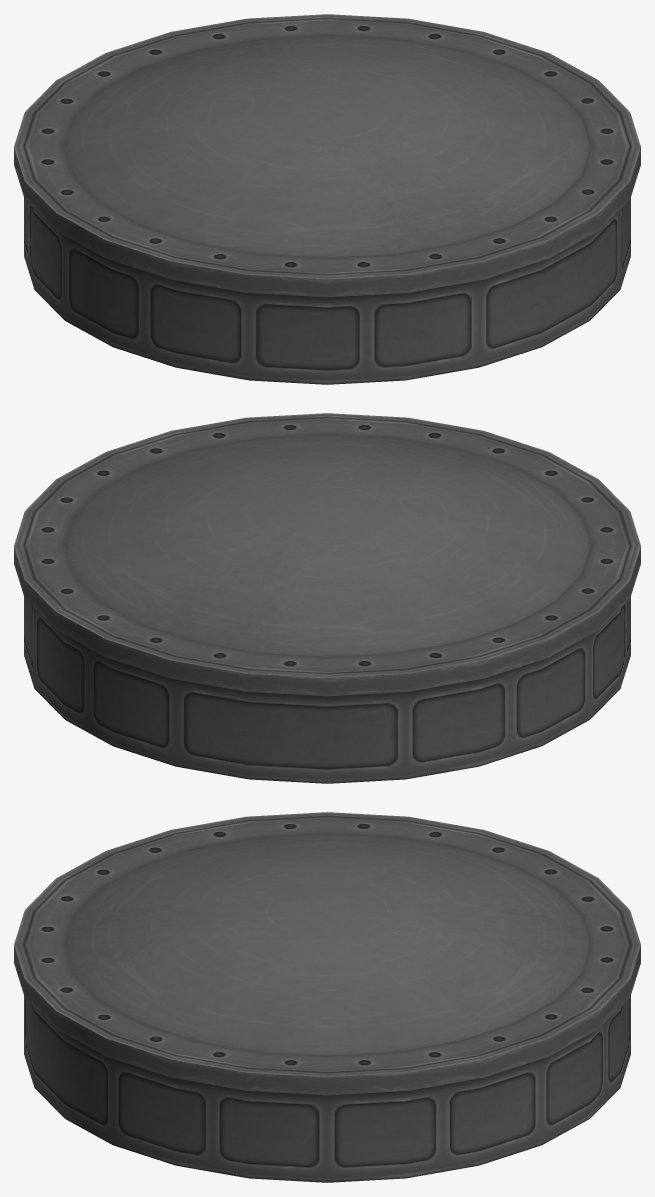
File: circinus_staging_plate_s1p5_1.obj
The picture shows the model from 3 angles, top to bottom: view 1: azimuth 30°, elevation 25°; view 2: azimuth 150°, elevation 25°; view 3: azimuth 270°, elevation 25°; orthographic projection.
Parts seen in each view (by area): view 1: circinus_staging_plate_s1p5_1; view 2: circinus_staging_plate_s1p5_1; view 3: circinus_staging_plate_s1p5_1.
Part boxes in pixels (x1,y1,x2,y2): circinus_staging_plate_s1p5_1: (14,14,640,384); circinus_staging_plate_s1p5_1: (14,413,640,783); circinus_staging_plate_s1p5_1: (14,812,640,1182).
Size of the model in its own units: 1.94 by 0.5 by 1.94.
